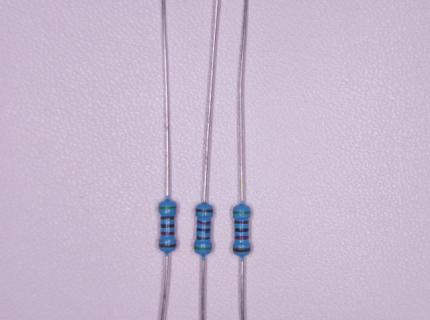Black band: (197, 228, 211, 232), (235, 228, 249, 232), (161, 224, 174, 228)
Brown band: (195, 208, 214, 213), (233, 247, 251, 252), (234, 219, 249, 224), (158, 244, 176, 248), (197, 236, 210, 240), (161, 216, 175, 219)
Green band: (233, 210, 251, 214), (194, 246, 212, 250), (159, 206, 176, 209)
Red band: (197, 220, 211, 225), (161, 231, 174, 236), (235, 235, 249, 239)
